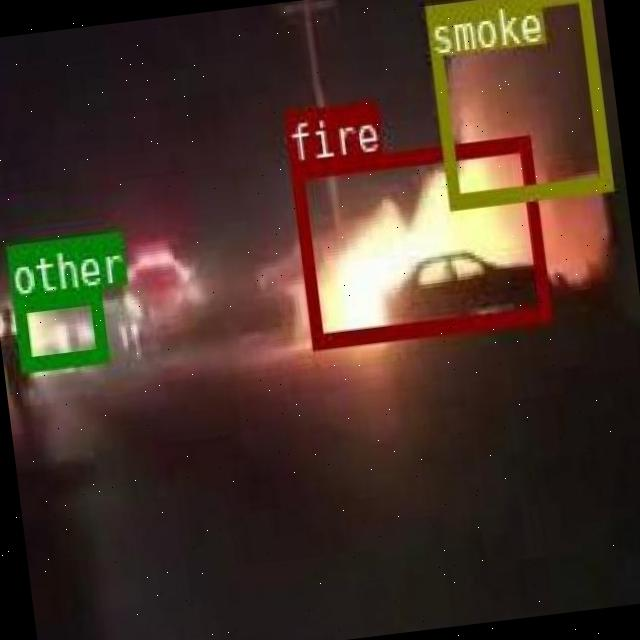smoke: (422, 0, 611, 207)
